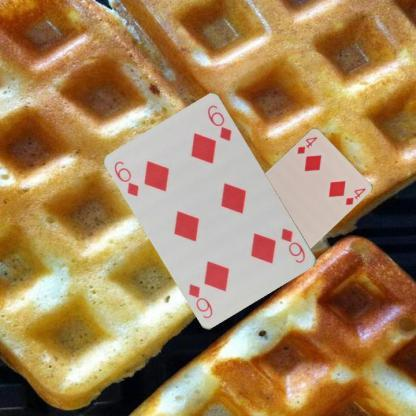4d: (294, 134, 318, 155)
6d: (278, 225, 307, 265), (112, 158, 140, 198)
